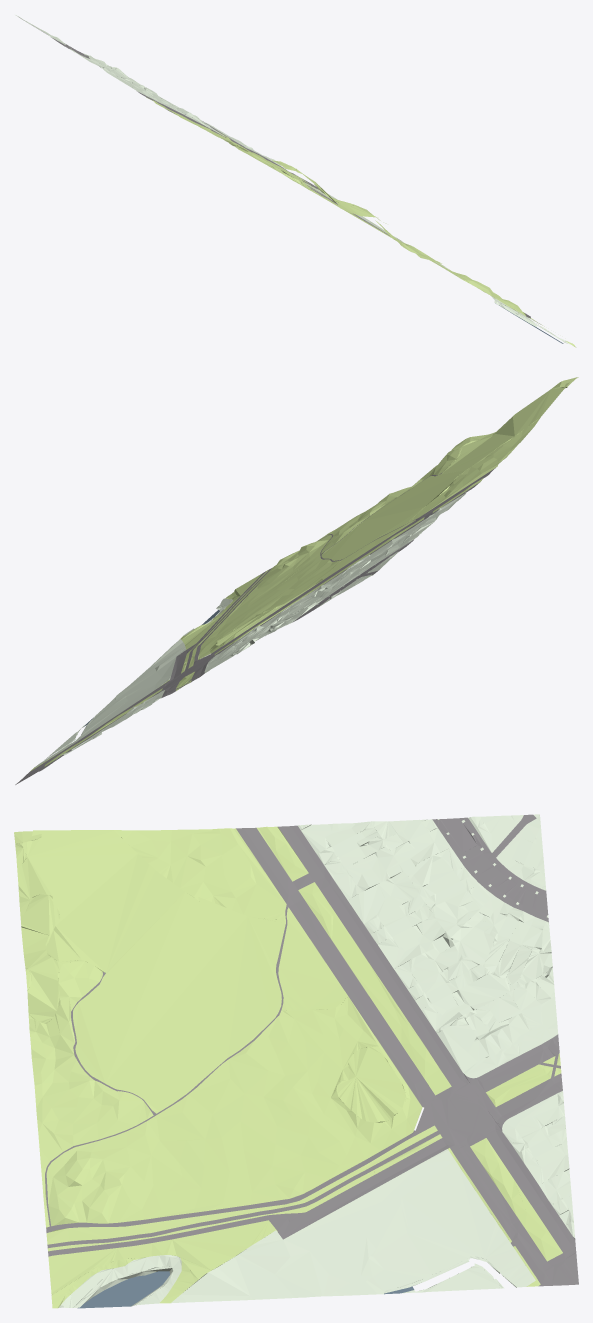
The picture shows the model from 3 angles, top to bottom: view 1: azimuth 30°, elevation 25°; view 2: azimuth 150°, elevation 25°; view 3: azimuth 270°, elevation 25°; orthographic projection. The views are drawn at different scales.
Size of the model in its own units: 218 by 161 by 267.
